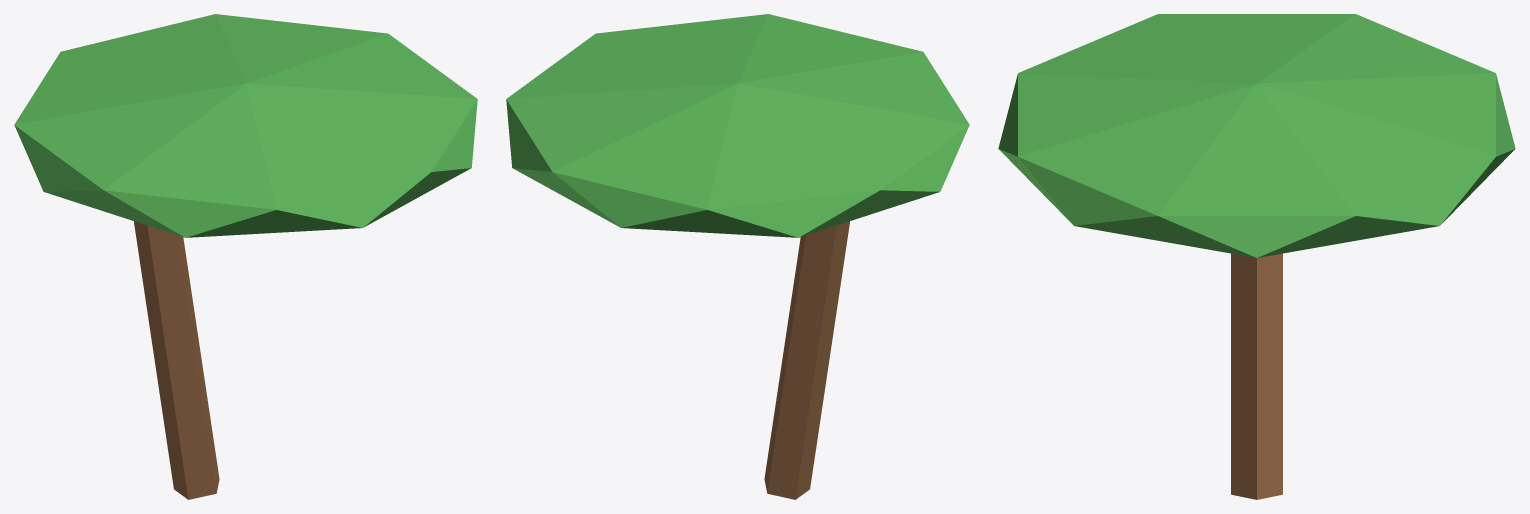
The model's file is tree_acacia.glb.
The picture shows the model from 3 angles, left to right: view 1: azimuth 30°, elevation 25°; view 2: azimuth 150°, elevation 25°; view 3: azimuth 270°, elevation 25°; orthographic projection. The views are drawn at different scales.
Parts seen in each view (by area): view 1: tree_acacia; view 2: tree_acacia; view 3: tree_acacia.
Part boxes in pixels (left/top/right/bottom): tree_acacia: left=14, top=14, right=477, bottom=499; tree_acacia: left=506, top=14, right=969, bottom=499; tree_acacia: left=998, top=14, right=1515, bottom=499.
Size of the model in its own units: 0.34 by 0.3172 by 0.34.
